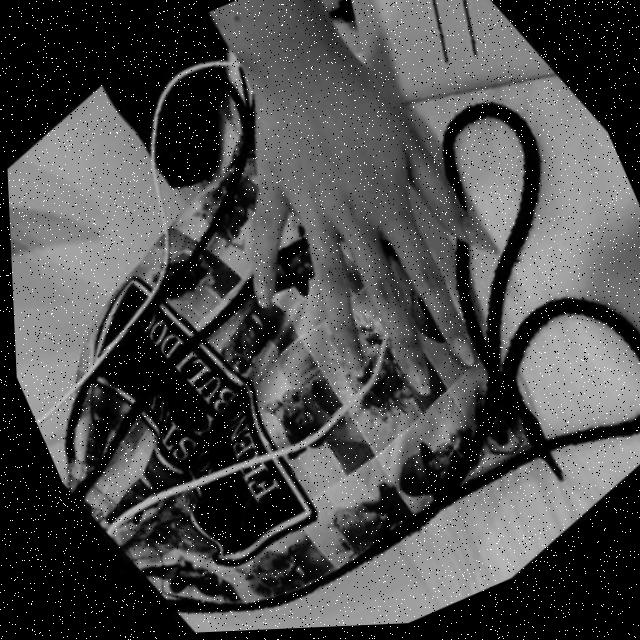hand: (150, 0, 585, 456)
